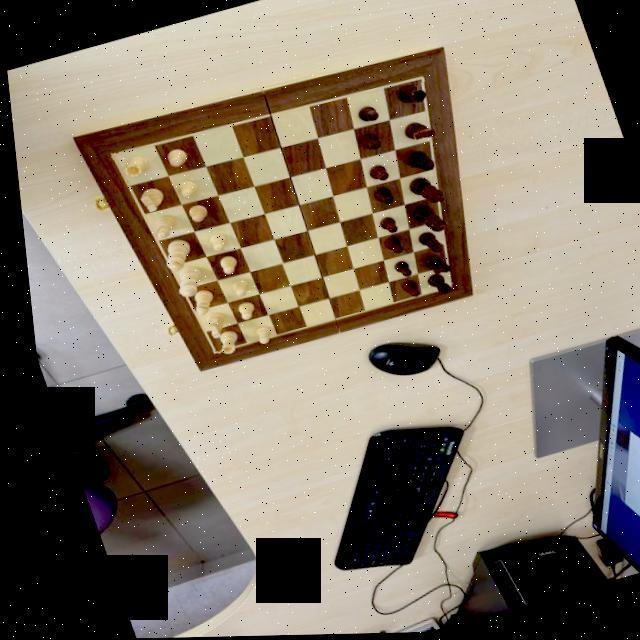chess-table-corners: (101, 148, 117, 162), (411, 74, 427, 86), (200, 345, 214, 358), (442, 284, 449, 292)
